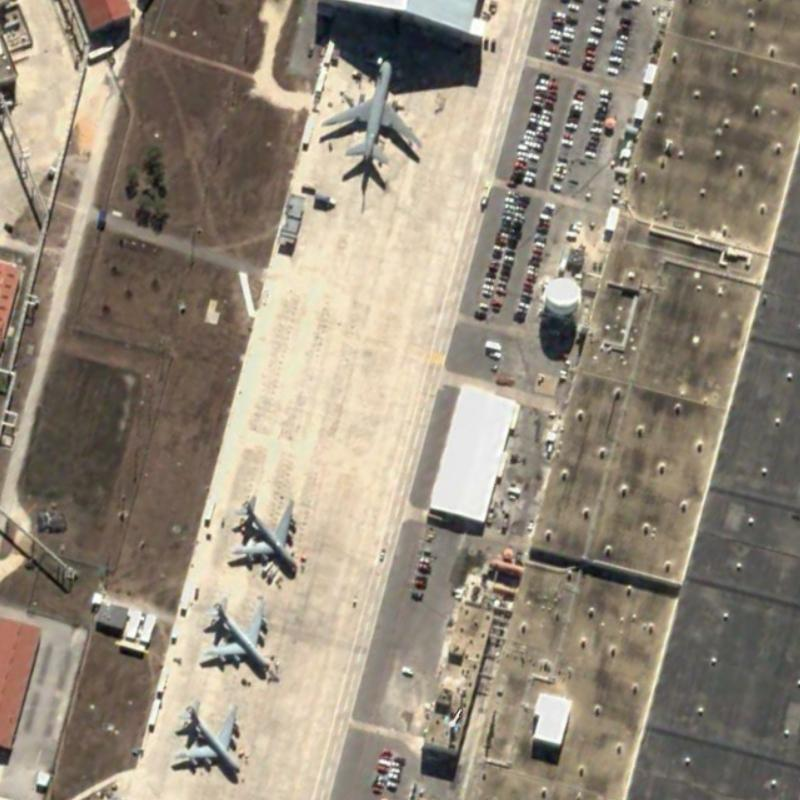A14: (192, 587, 286, 683), (222, 483, 309, 581), (164, 694, 259, 783)
A18: (312, 49, 425, 175)
